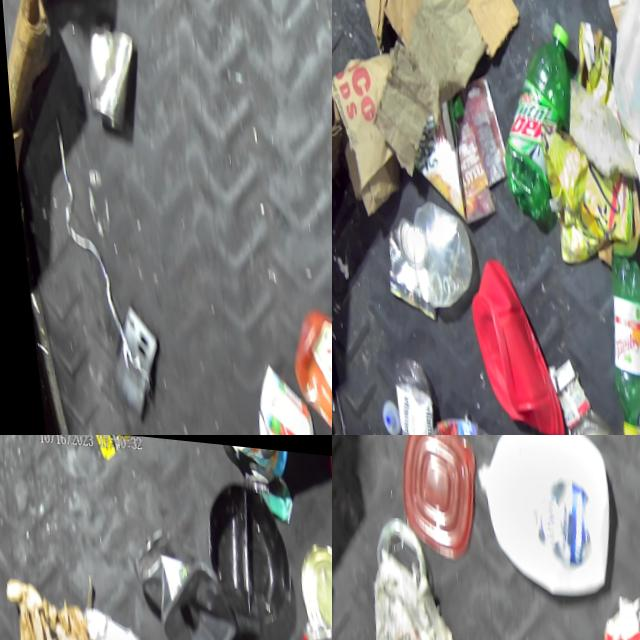can: (75, 18, 136, 130), (591, 582, 640, 640), (297, 611, 332, 640)
milk_jug: (469, 435, 614, 596)
plastic_bottle: (524, 3, 575, 94)
